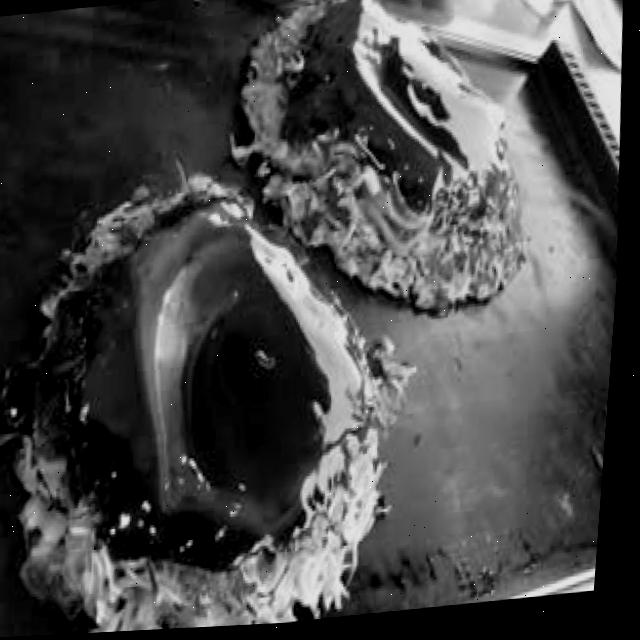蛋糕甜品: (13, 155, 429, 638)
